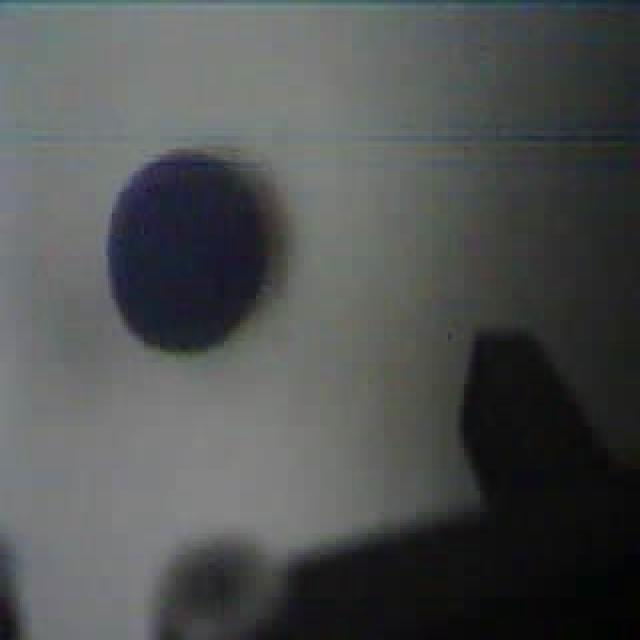green_ball: (102, 144, 278, 357)
